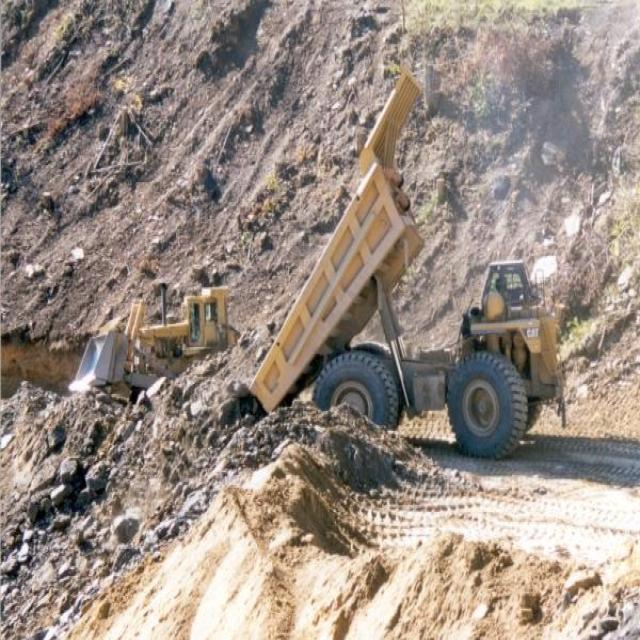buldozerpayloadergrader: (63, 279, 236, 421)
dump_truck: (258, 64, 565, 465)
